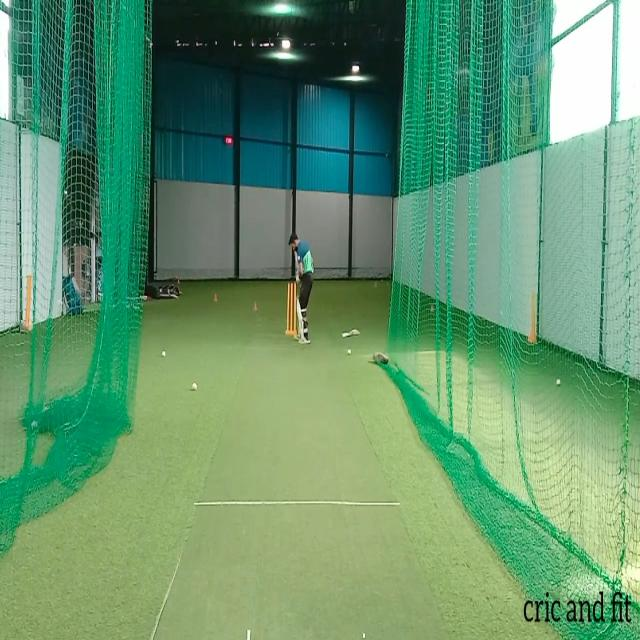batsman: (288, 230, 315, 346)
